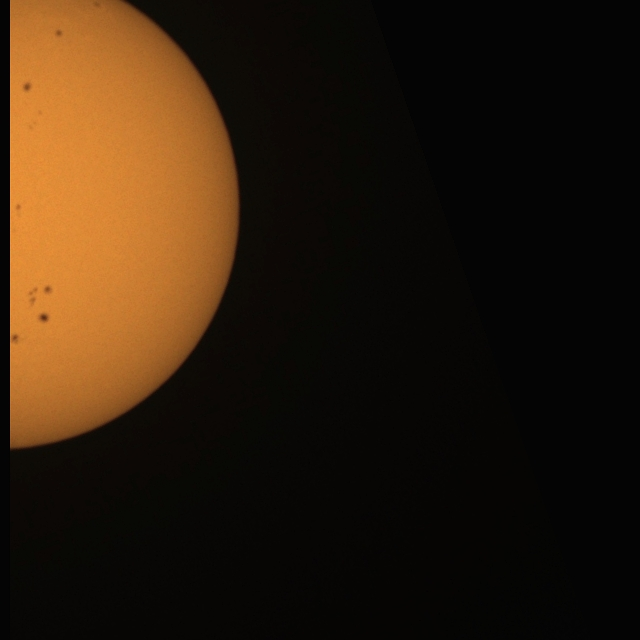sunspot: (27, 284, 52, 305), (27, 110, 43, 131), (13, 201, 22, 218), (38, 312, 50, 324), (22, 81, 33, 93), (11, 332, 20, 346), (43, 285, 52, 295), (54, 29, 64, 38), (93, 0, 101, 9)
